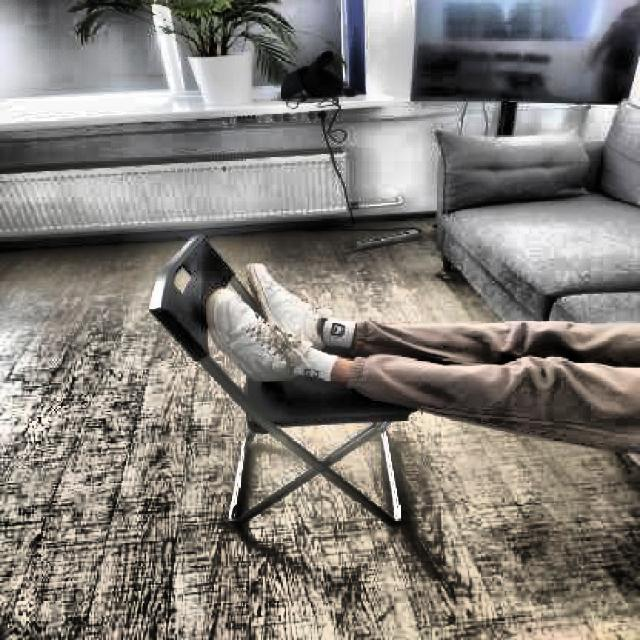cadeira: (142, 219, 440, 536)
